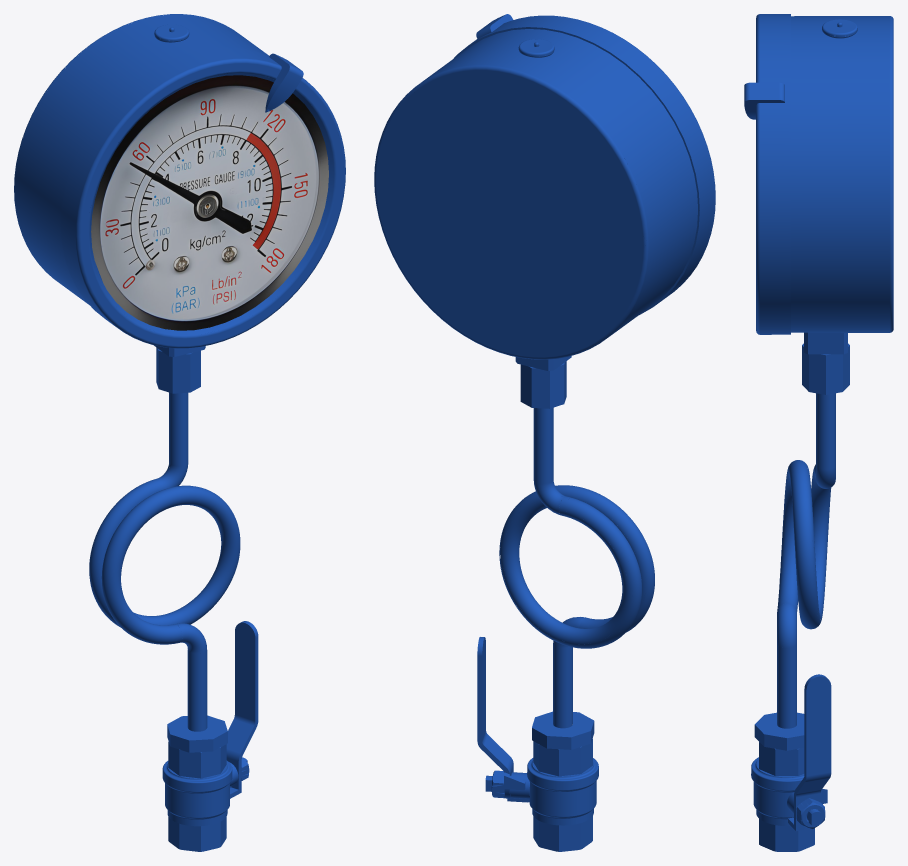
Rendered from 表盘式压力表.glb.
The picture shows the model from 3 angles, left to right: view 1: azimuth 30°, elevation 25°; view 2: azimuth 150°, elevation 25°; view 3: azimuth 270°, elevation 25°; orthographic projection. The views are drawn at different scales.
Parts seen in each view (by area): view 1: 表盘式压力表.SLDPRT; view 2: 表盘式压力表.SLDPRT; view 3: 表盘式压力表.SLDPRT.
Part boxes in pixels (x1,y1,x2,y2): 表盘式压力表.SLDPRT: (14, 14, 345, 851); 表盘式压力表.SLDPRT: (374, 14, 715, 851); 表盘式压力表.SLDPRT: (744, 14, 893, 851).
Size of the model in its own units: 0.161 by 0.4525 by 0.075.
Materials: 2 (1 with a texture image).
